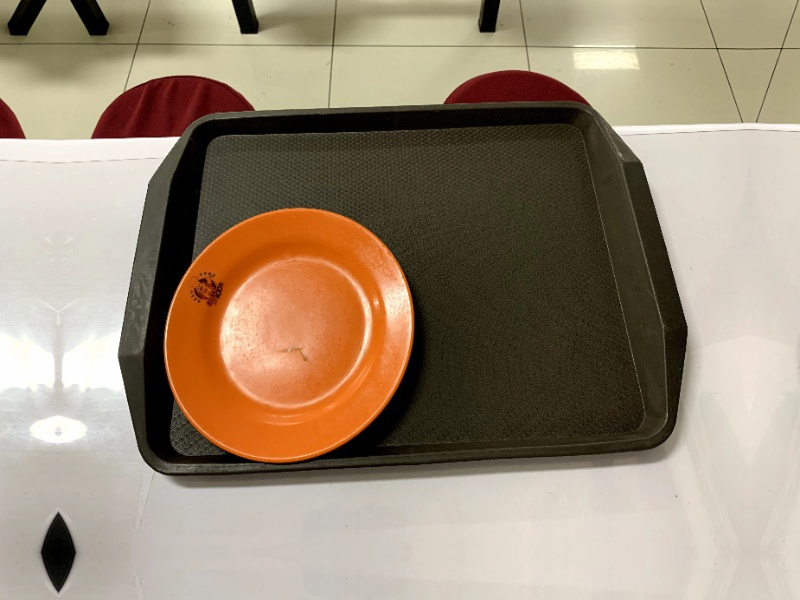dish10: (163, 204, 418, 465)
